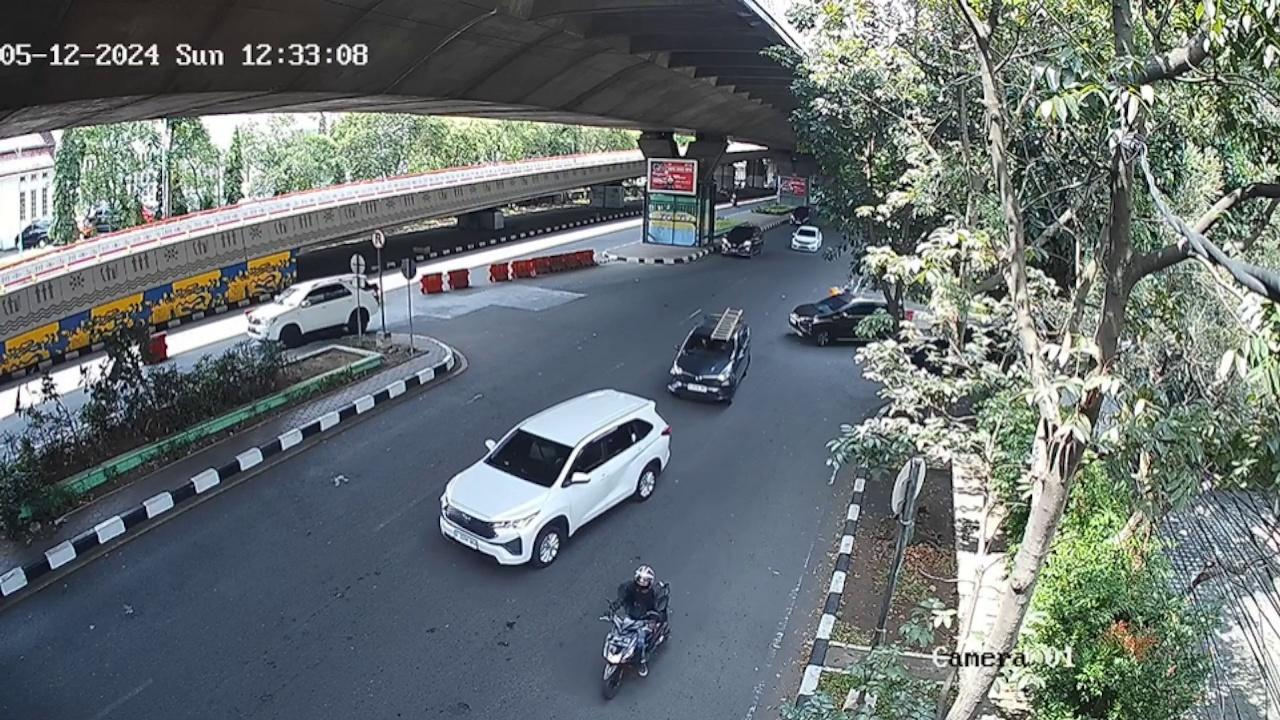pakai: (527, 437, 553, 465)
windshield: (486, 429, 571, 488), (682, 327, 732, 361)
